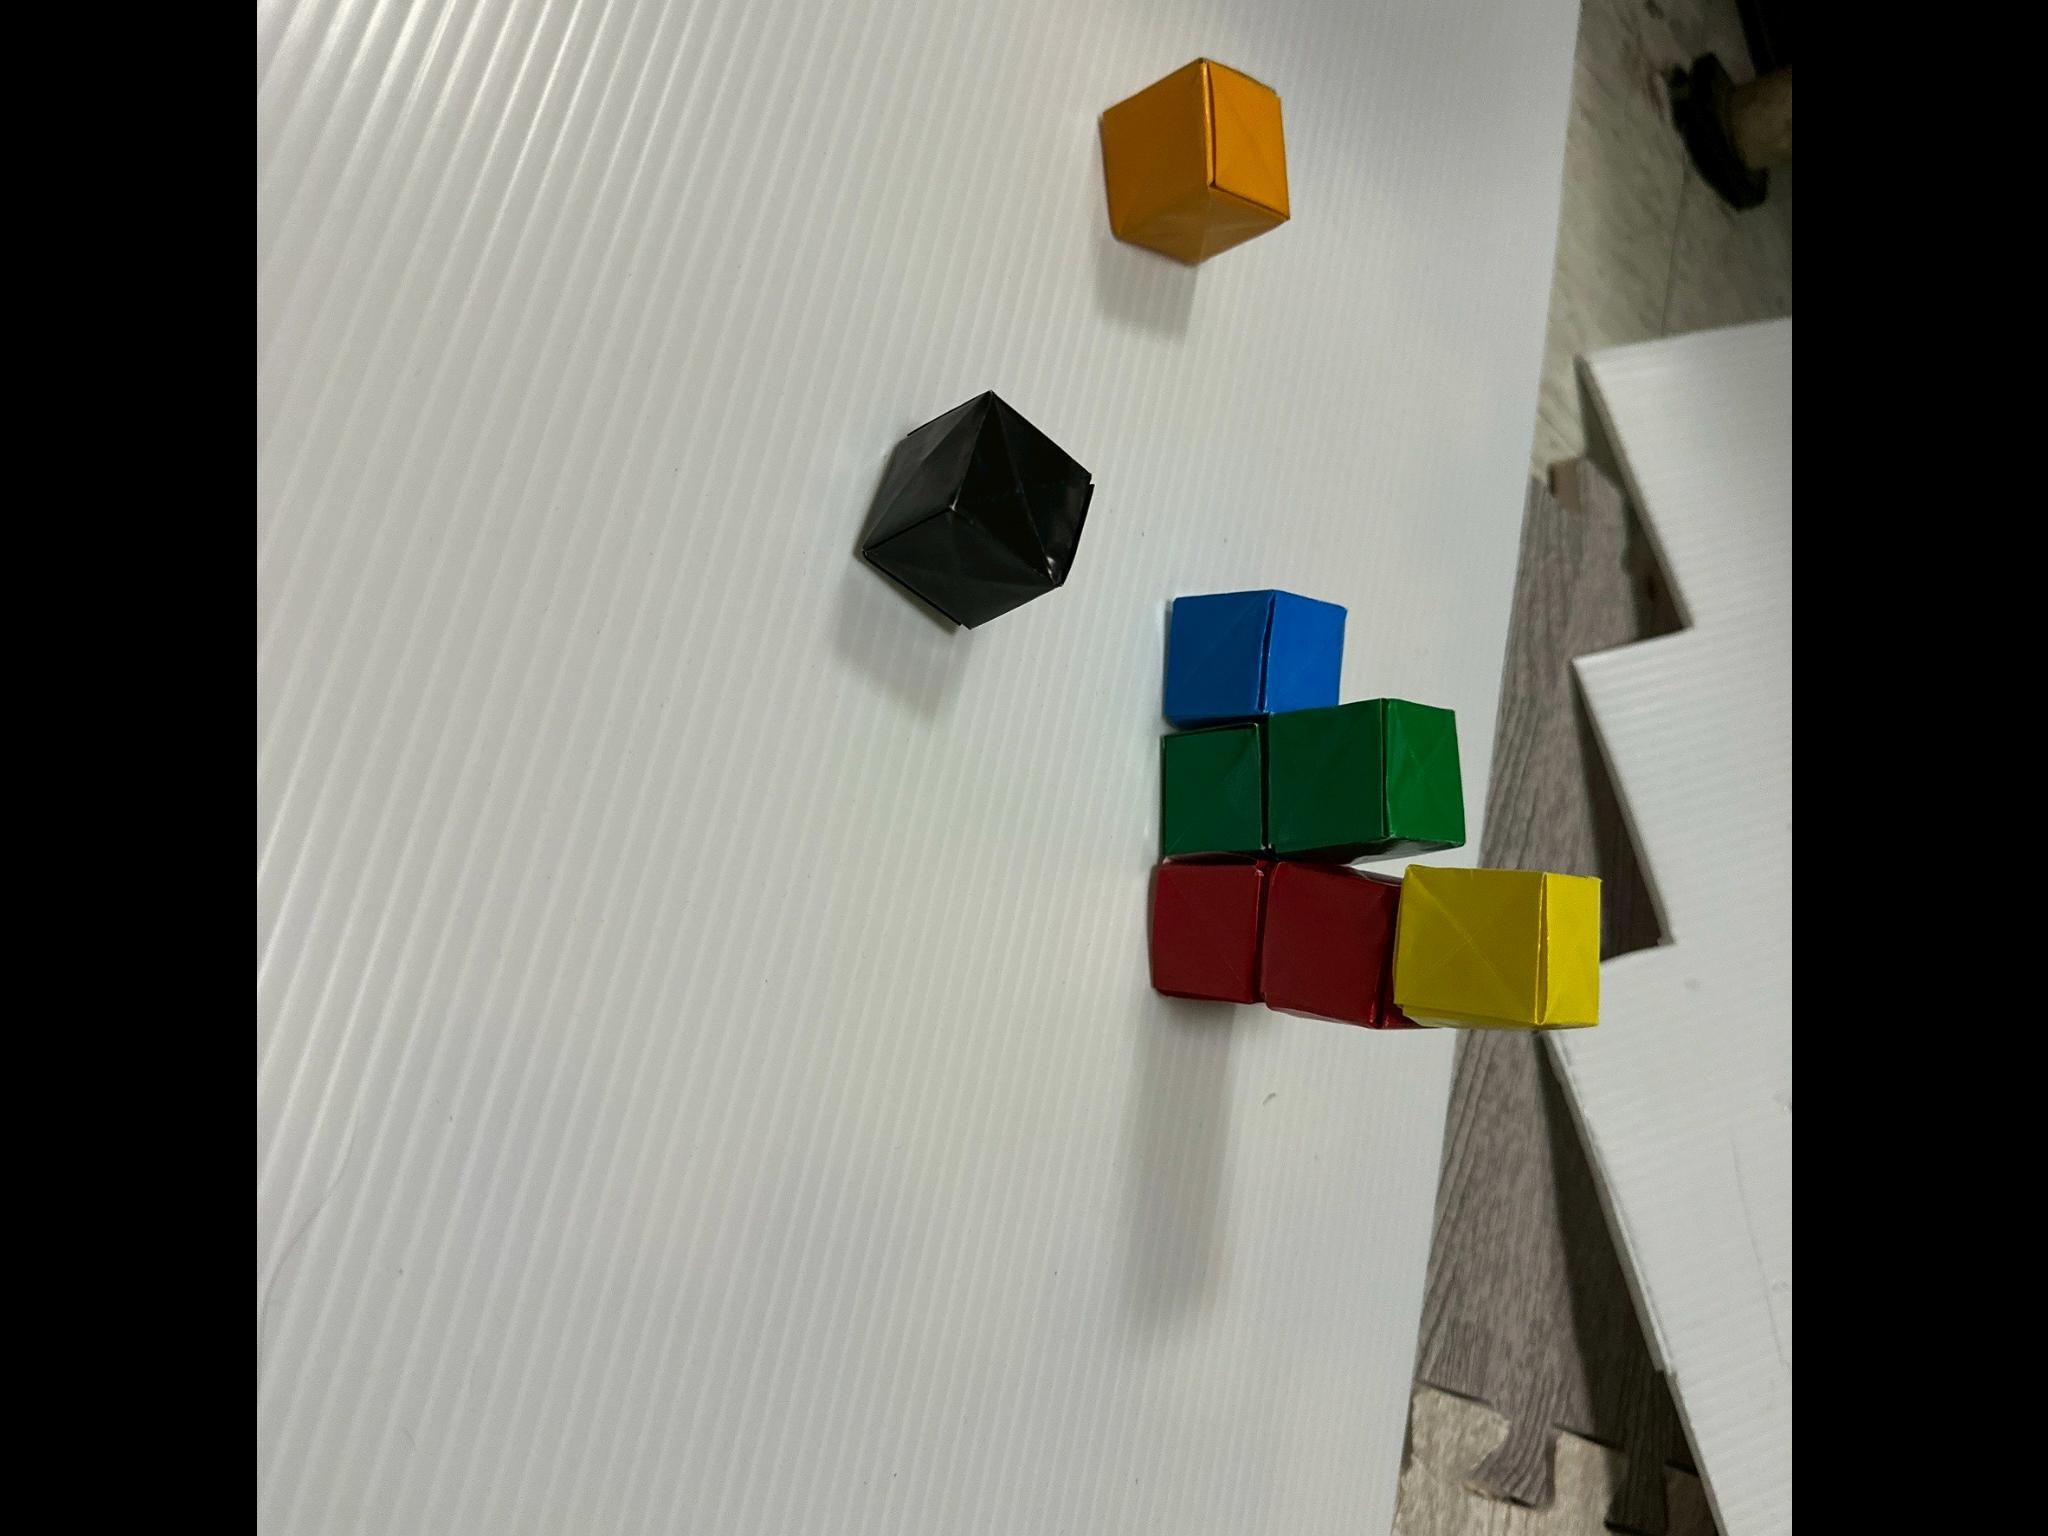base: (861, 394, 1092, 628), (1101, 60, 1288, 265), (1393, 865, 1600, 1028), (1263, 700, 1463, 862), (1258, 860, 1417, 1028), (1163, 591, 1345, 726), (1151, 857, 1269, 1004), (1163, 726, 1264, 855)
